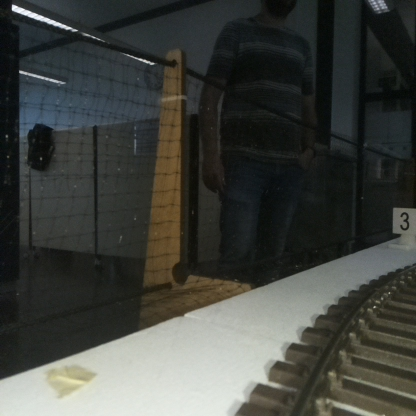white-stop-3: (393, 209, 416, 247)
